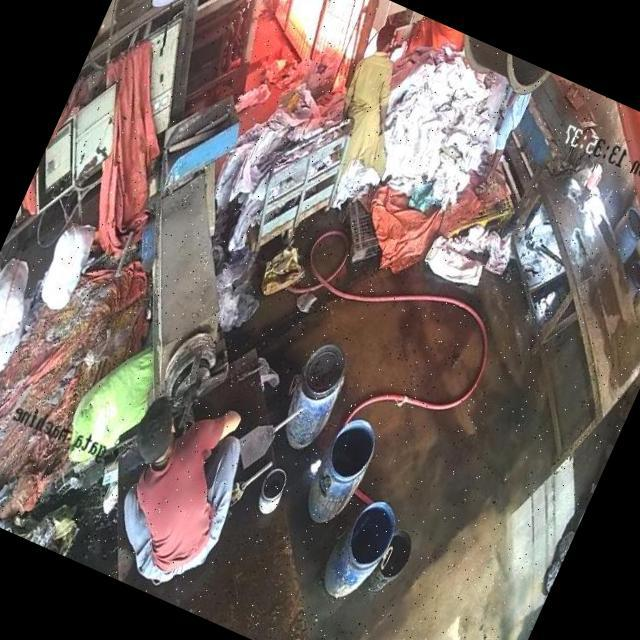person: (81, 404, 251, 602), (304, 22, 436, 216)
